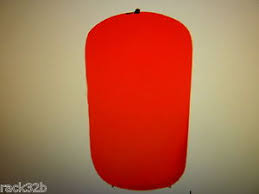buoy: (84, 11, 194, 189)
